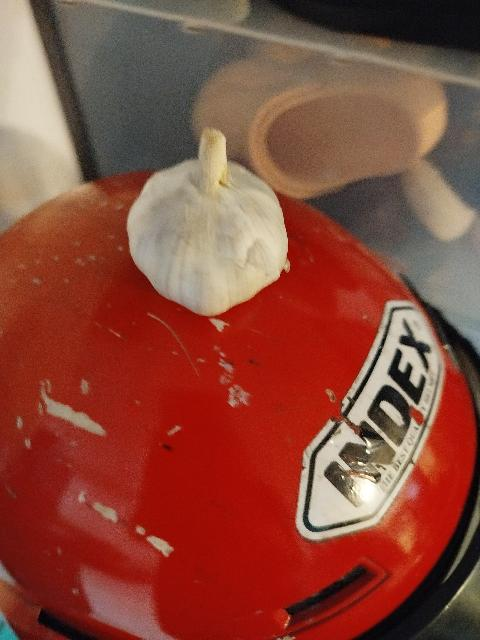garlic: (126, 127, 290, 317)
